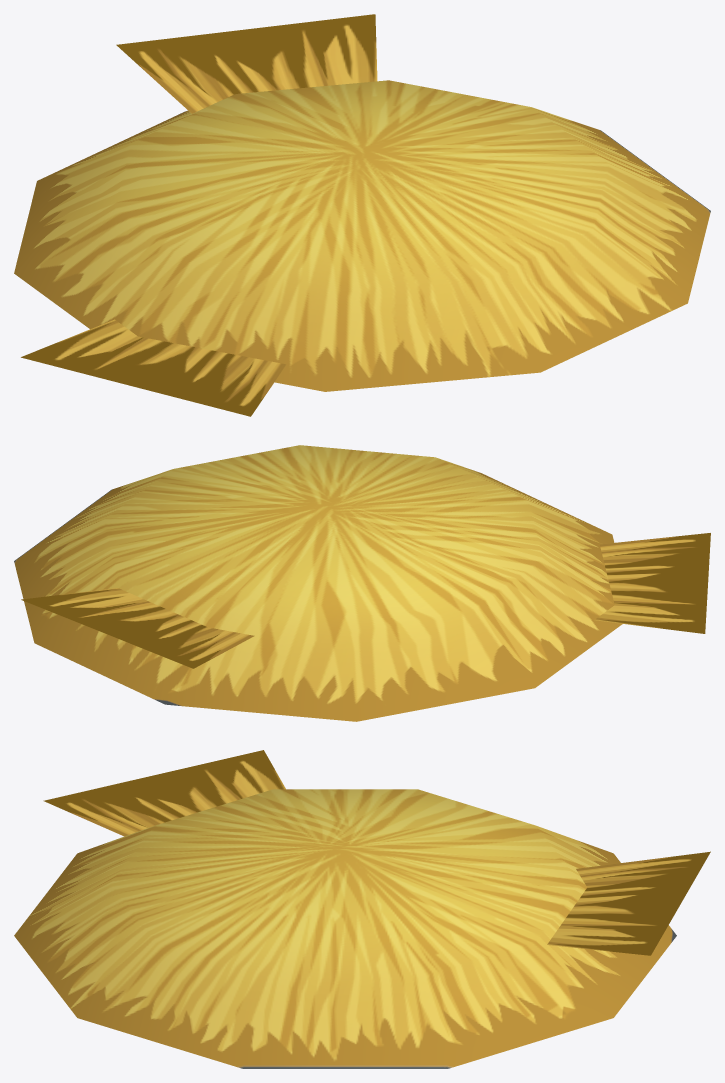
Rendered from hay_stack_05.fbx.
3 renders of one model, top to bottom at view 1: azimuth 30°, elevation 25°; view 2: azimuth 150°, elevation 25°; view 3: azimuth 270°, elevation 25°, orthographic. The views are drawn at different scales.
Parts seen in each view (by area): view 1: hay_stack_05:Mesh; view 2: hay_stack_05:Mesh; view 3: hay_stack_05:Mesh.
Part boxes in pixels (box(x1,y1,x2,y2)): hay_stack_05:Mesh: box(14, 14, 710, 416); hay_stack_05:Mesh: box(14, 445, 710, 721); hay_stack_05:Mesh: box(14, 750, 710, 1068).
Size of the model in its own units: 3.45 by 0.4481 by 3.29.
